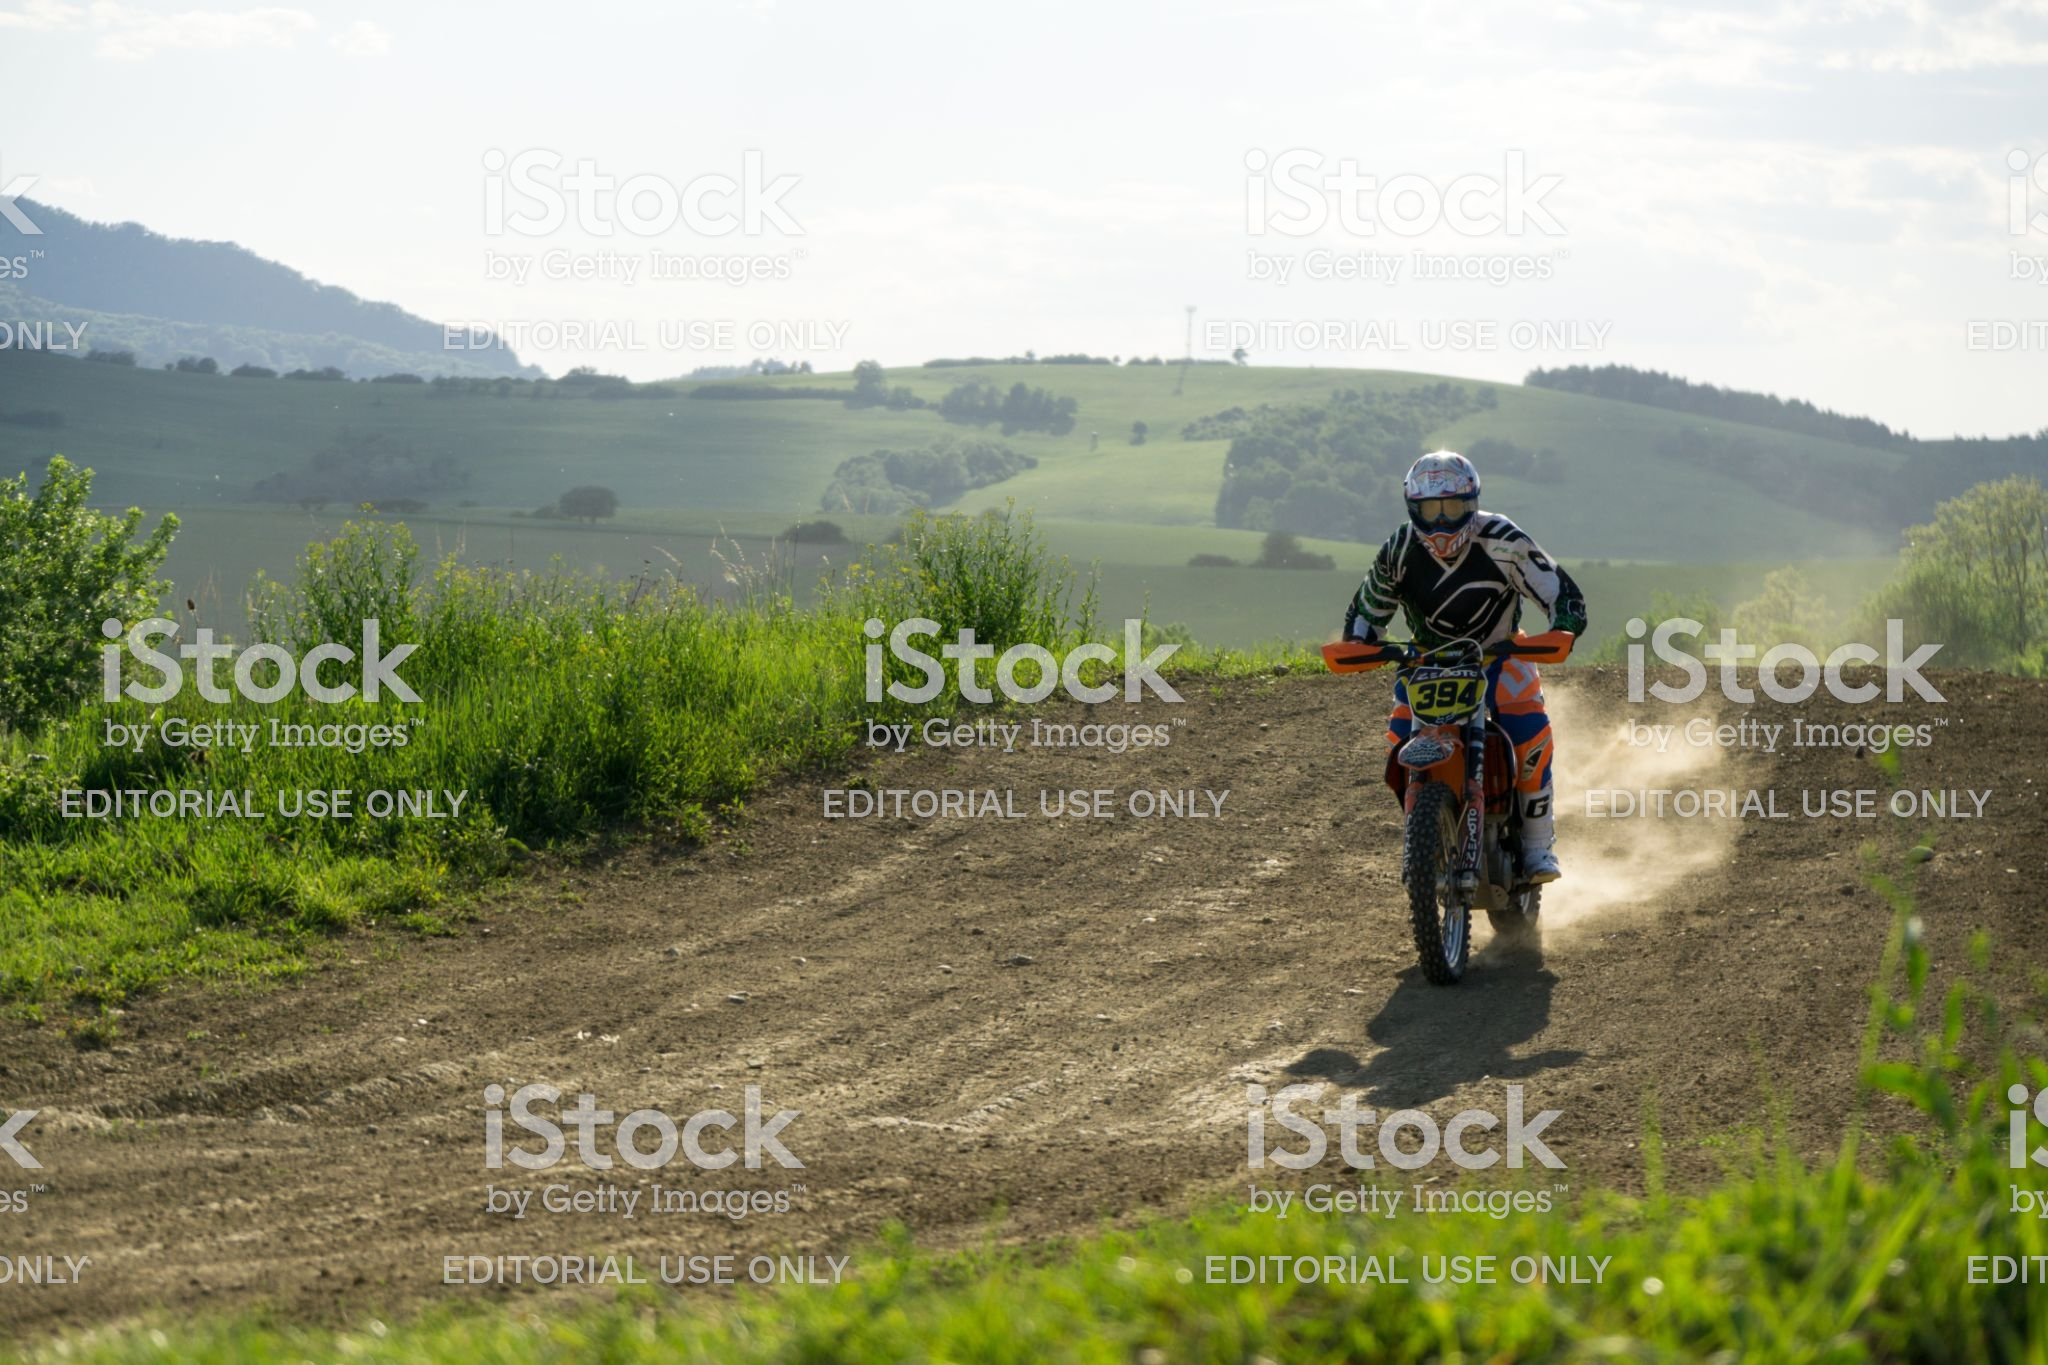helmet: (1398, 454, 1506, 558)
